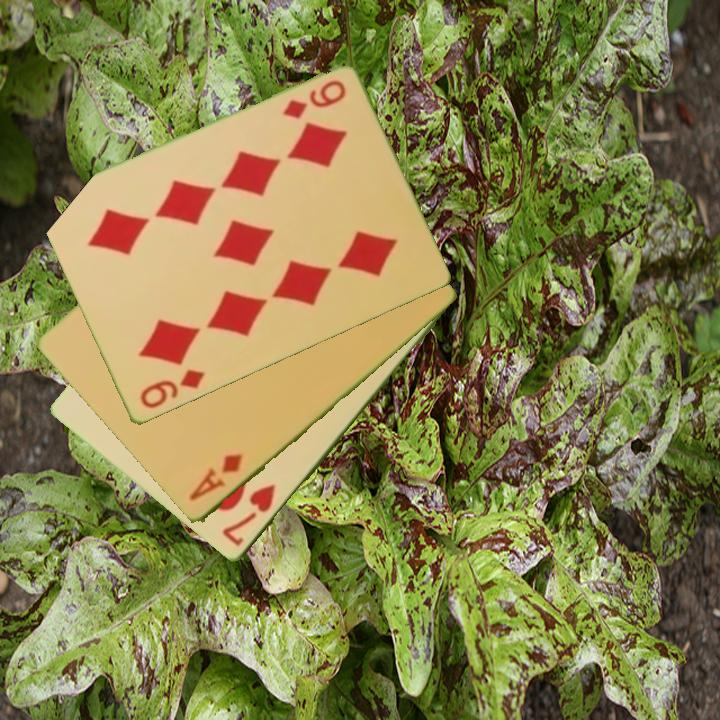7h: (218, 481, 279, 550)
9d: (136, 366, 208, 412), (279, 77, 349, 123)
Ad: (185, 450, 246, 504)
